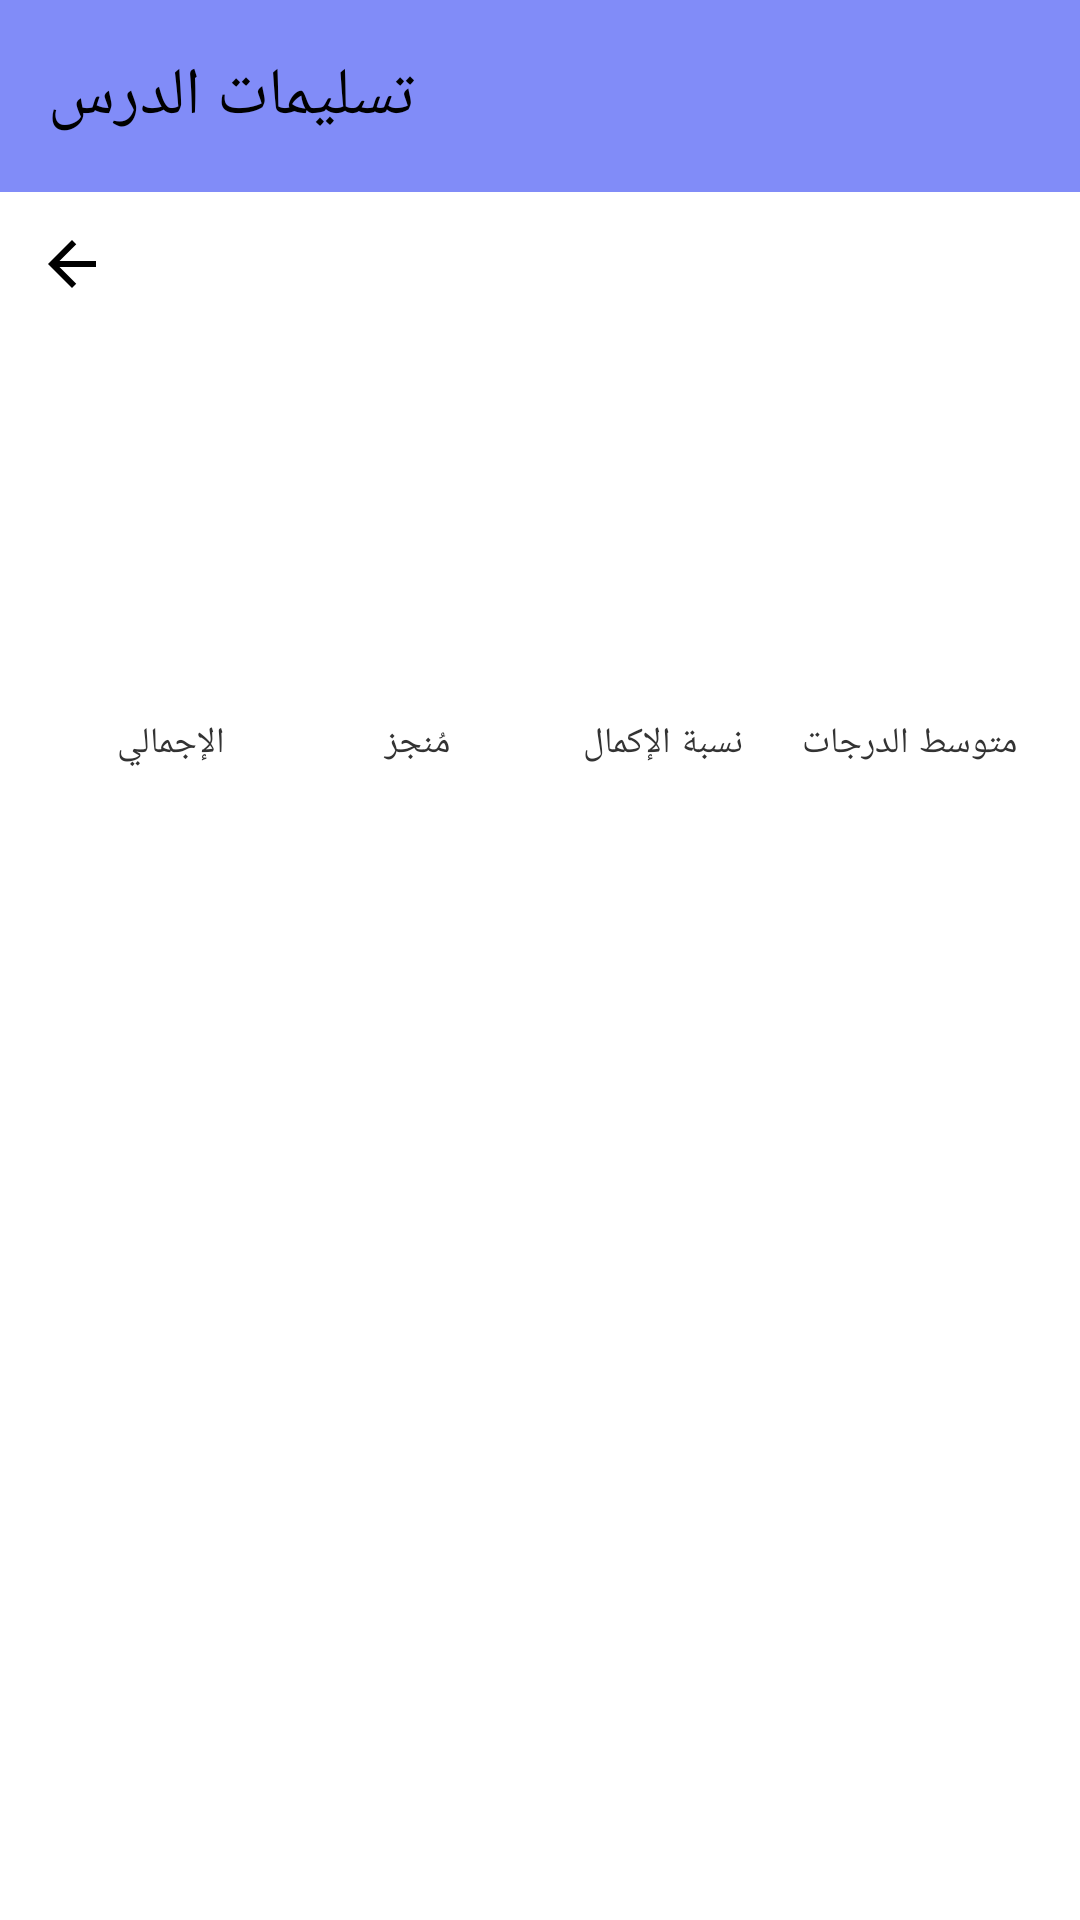

Locate icon controls on the screen. Image size 1080px x 1920px, boxes as bbox(x1, y1, x2, y2).
arrow back: bbox(48, 240, 96, 288)
